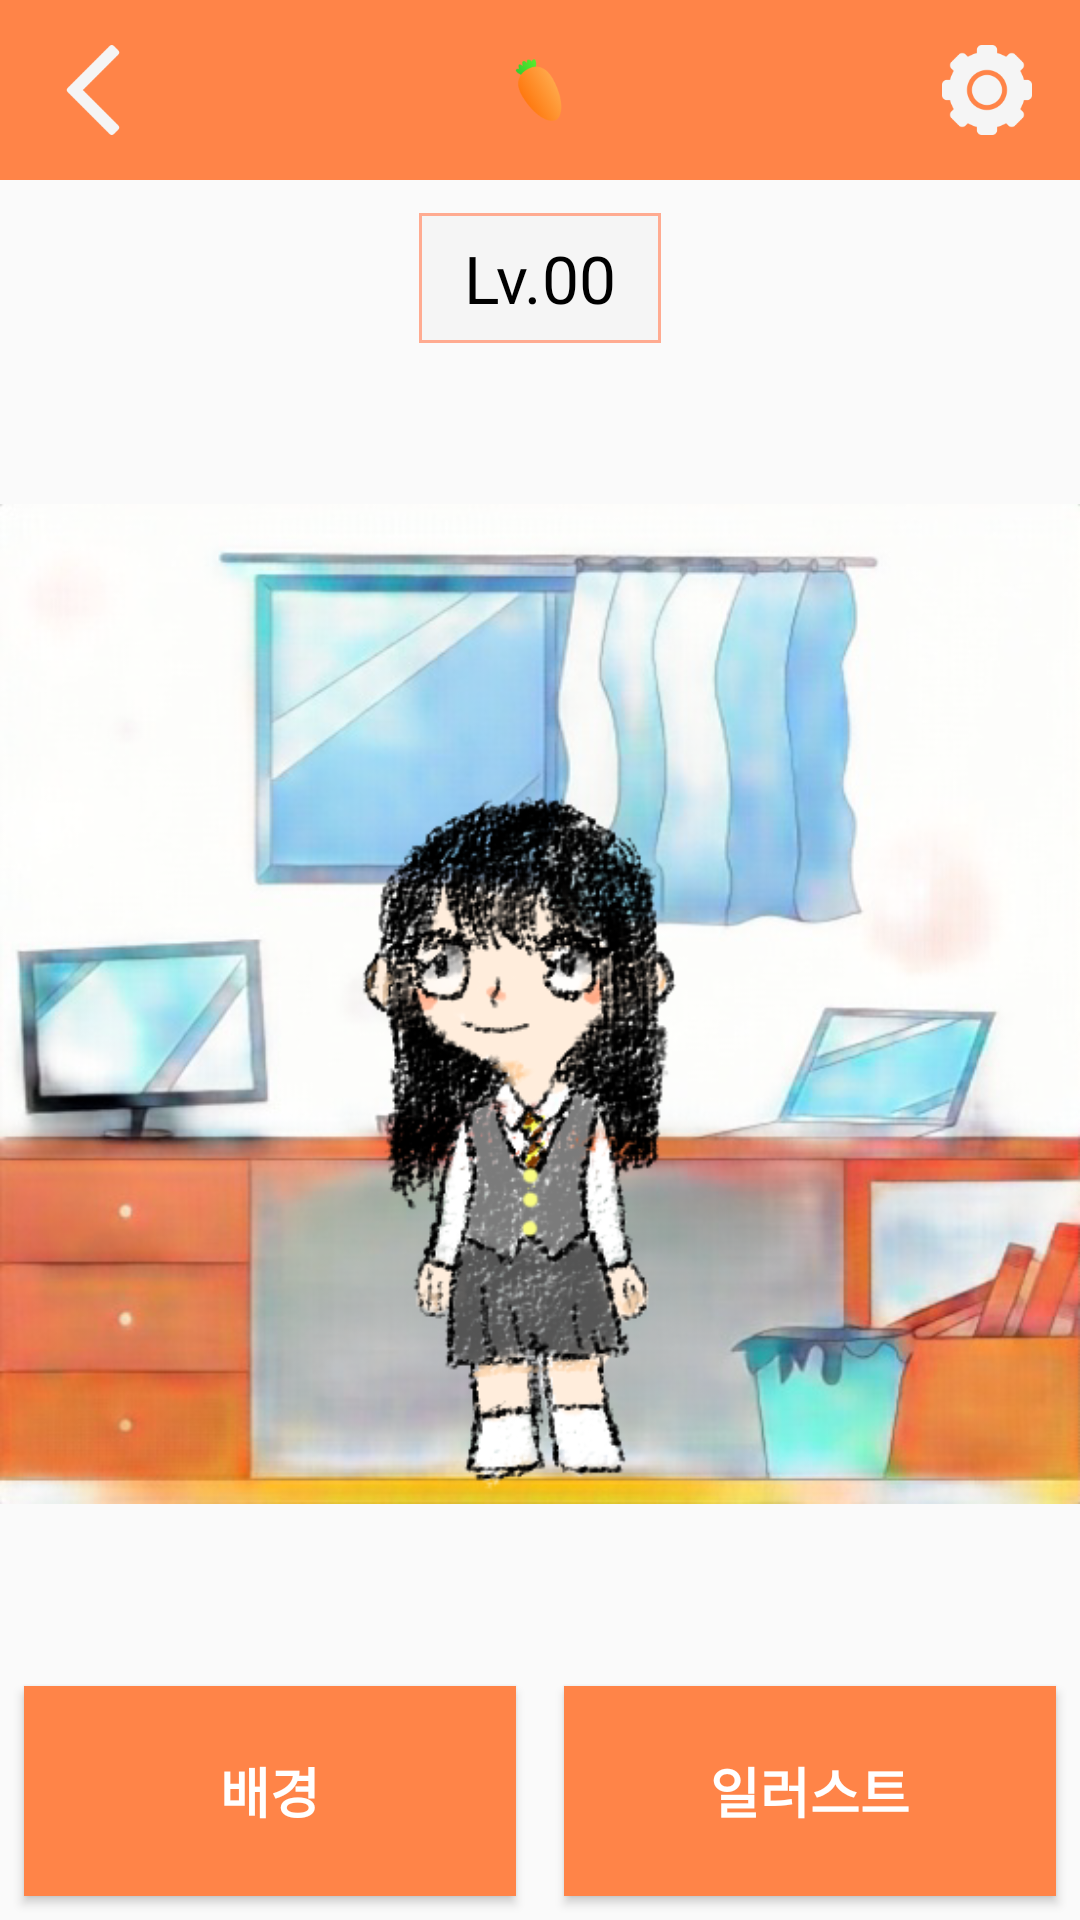

Icon bounding boxes for this 1080 × 1920 phone screenshot, format [x1,y1,x2,y2]:
backkey: [66,45,120,135]
carrot: [515,59,561,121]
settings: [942,45,1032,135]
